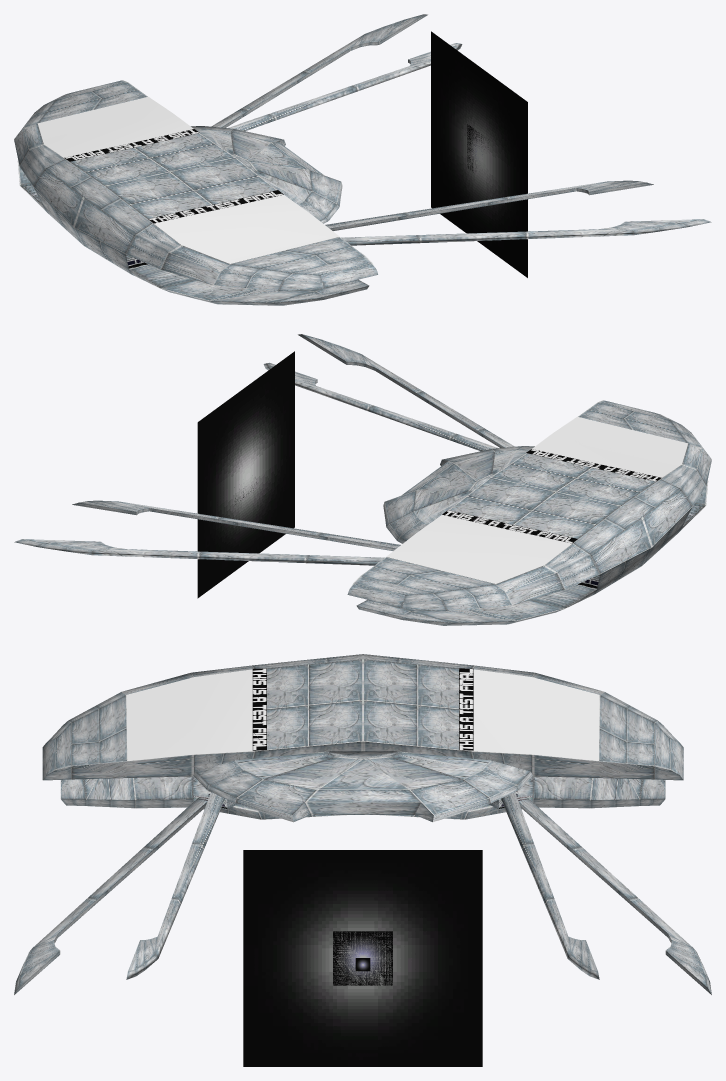
Rendered from sjw33.obj.
3 views of the same model, one above another, from view 1: azimuth 30°, elevation 25°; view 2: azimuth 150°, elevation 25°; view 3: azimuth 270°, elevation 25° (orthographic). The views are drawn at different scales.
Visible parts, largest first — view 1: WINGS_EXP030, LFRED010.002, DECAL010.005, LFGREEN010.002, DECAL020.002, EXPL3_T020, EXPL_T030, EXPL3_T010, EXPL_T020, NAMEDECAL010.002; view 2: WINGS_EXP030, LFRED010.002, DECAL020.002, LFGREEN010.002, DECAL010.005, EXPL3_T010, EXPL_T020, EXPL3_T020, EXPL_T030, NAMEDECAL010.002; view 3: WINGS_EXP030, LFRED010.002, LFGREEN010.002, DECAL020.002, DECAL010.005, EXPL3_T020, EXPL3_T010, EXPL_T030, EXPL_T020, NAMEDECAL010.002.
Boxes of the visible parts, x1=… form: WINGS_EXP030: x1=14, y1=80, x2=377, y2=305; LFRED010.002: x1=431, y1=52, x2=527, y2=277; DECAL010.005: x1=154, y1=194, x2=339, y2=263; LFGREEN010.002: x1=431, y1=31, x2=502, y2=259; DECAL020.002: x1=37, y1=96, x2=193, y2=158; EXPL3_T020: x1=341, y1=219, x2=711, y2=245; EXPL_T030: x1=325, y1=180, x2=653, y2=230; EXPL3_T010: x1=211, y1=14, x2=427, y2=127; EXPL_T020: x1=227, y1=43, x2=462, y2=131; NAMEDECAL010.002: x1=64, y1=129, x2=283, y2=223; WINGS_EXP030: x1=347, y1=400, x2=711, y2=625; LFRED010.002: x1=197, y1=351, x2=294, y2=597; DECAL020.002: x1=386, y1=515, x2=572, y2=583; LFGREEN010.002: x1=197, y1=397, x2=294, y2=598; DECAL010.005: x1=532, y1=416, x2=687, y2=478; EXPL3_T010: x1=14, y1=539, x2=384, y2=565; EXPL_T020: x1=72, y1=500, x2=400, y2=550; EXPL3_T020: x1=298, y1=334, x2=514, y2=447; EXPL_T030: x1=263, y1=362, x2=498, y2=451; NAMEDECAL010.002: x1=442, y1=449, x2=661, y2=543; WINGS_EXP030: x1=42, y1=654, x2=683, y2=822; LFRED010.002: x1=243, y1=850, x2=482, y2=1066; LFGREEN010.002: x1=243, y1=850, x2=482, y2=1066; DECAL020.002: x1=471, y1=669, x2=599, y2=760; DECAL010.005: x1=126, y1=669, x2=254, y2=761; EXPL3_T020: x1=14, y1=797, x2=208, y2=994; EXPL3_T010: x1=518, y1=797, x2=711, y2=994; EXPL_T030: x1=126, y1=792, x2=224, y2=979; EXPL_T020: x1=501, y1=792, x2=599, y2=979; NAMEDECAL010.002: x1=252, y1=668, x2=473, y2=750.
Size of the model in its own units: 70.76 by 24 by 69.95.
13 materials, 13 textured.
